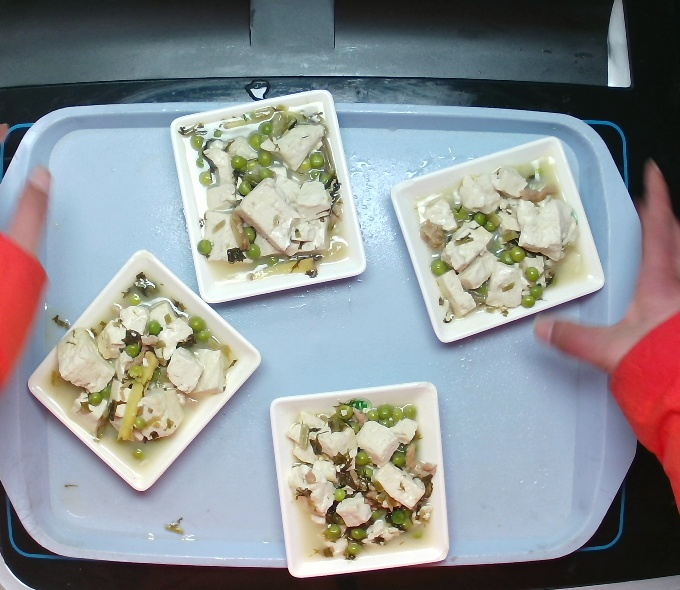wcq-CanDouDouFu: (48, 267, 243, 465), (409, 150, 591, 330), (182, 97, 351, 284), (273, 387, 449, 565)
